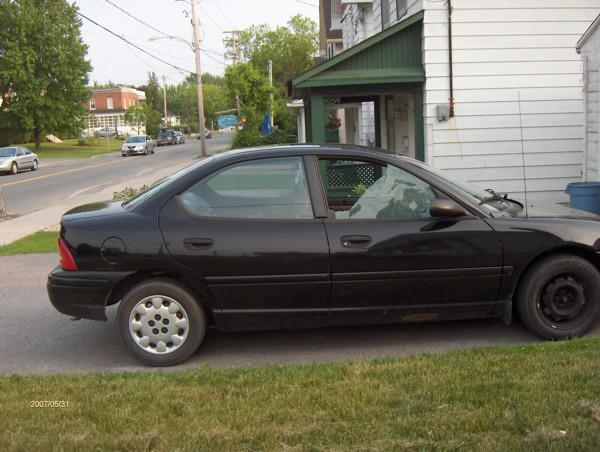doorouter-dent: (323, 147, 451, 275)
